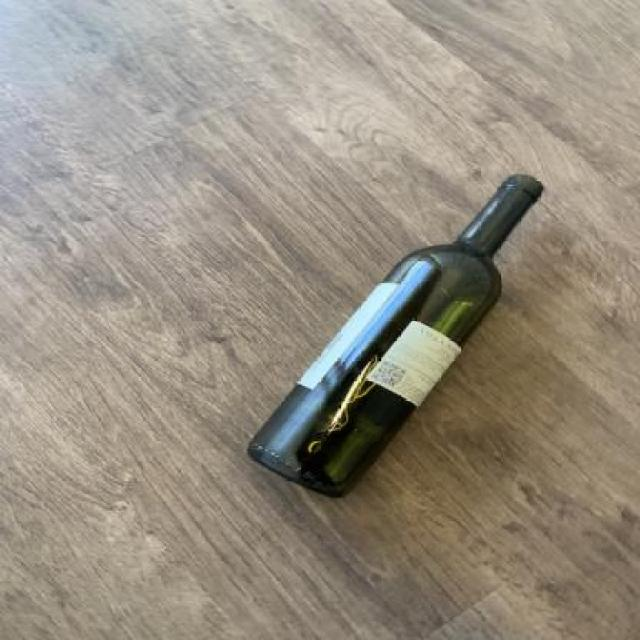trash: (241, 174, 545, 501)
